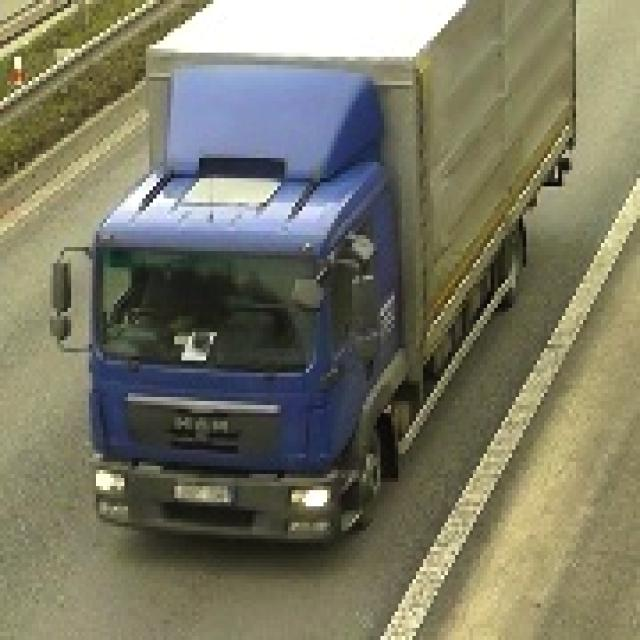truck: (47, 1, 577, 540)
